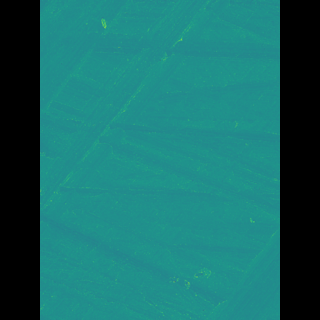Loch: (70, 0, 211, 244), (196, 225, 250, 319)
